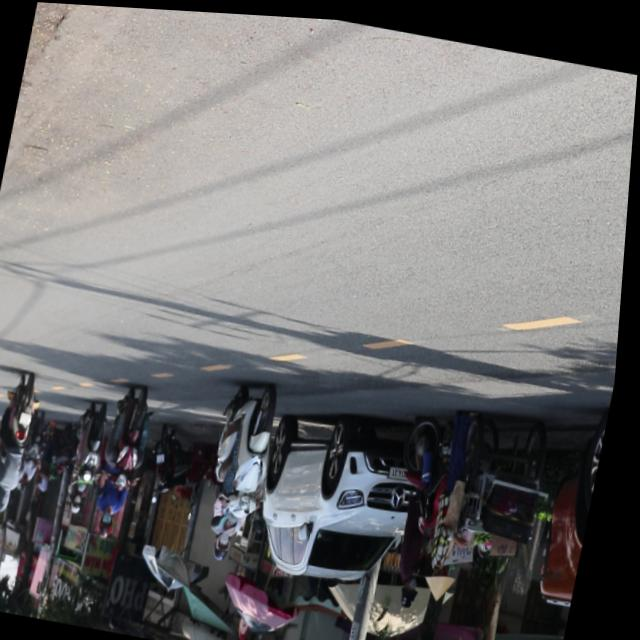helmet: (221, 530, 240, 560)
licenseplate: (201, 371, 290, 566)
